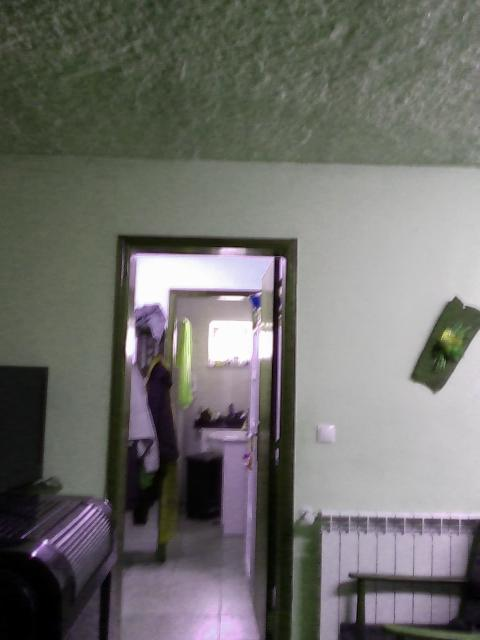open_door: (106, 234, 299, 639)
